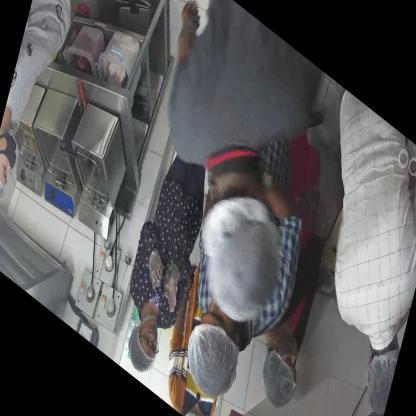no_apron: (134, 179, 205, 319)
